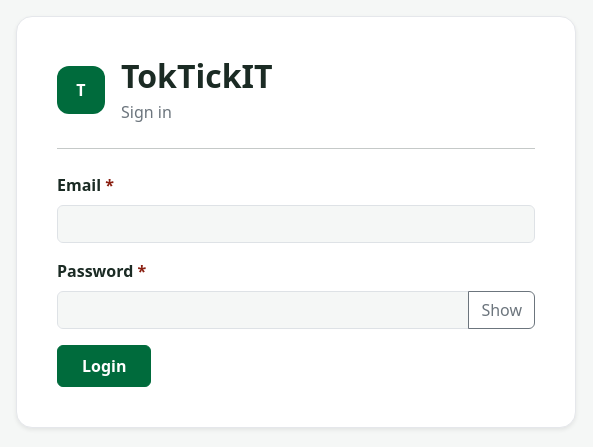
Test case: Login › shows the busy state and disables the form while submitting
Type "jane@toktickit.test" into the field labelled "Email *" at (296, 224), box [57,205,535,243]
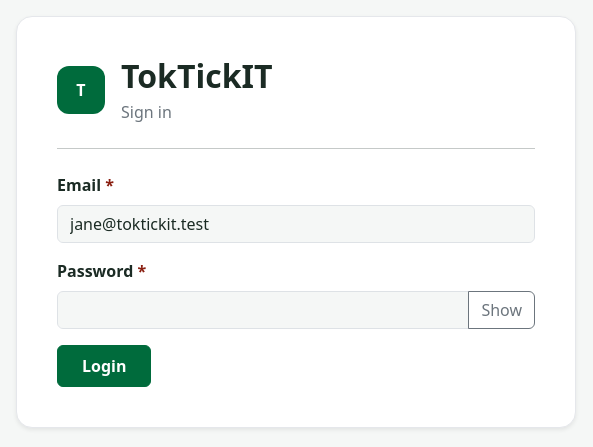
Type "DevPass123!" into the password field labelled "Password *" at (263, 310), box [57,291,469,329]
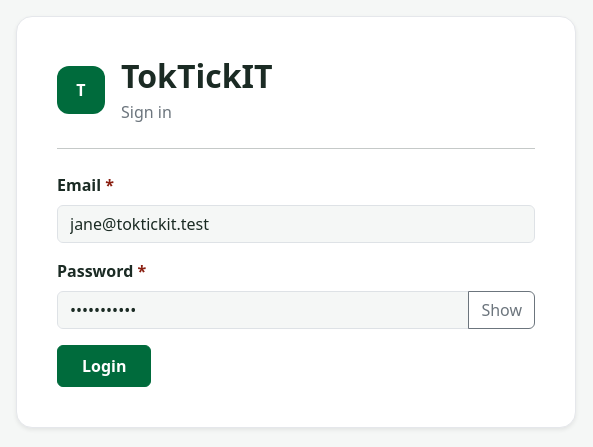
Click the button "Login" at (104, 366), box [57,345,152,387]
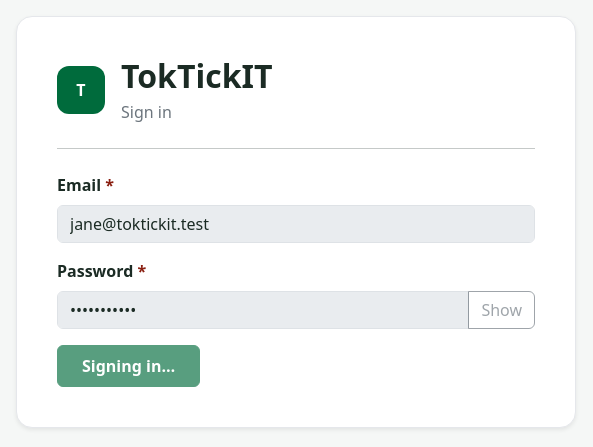
Expected: the field labelled "Email *" is disabled, [57,205,535,243]
Expected: the button "Signing in…" is disabled, [57,345,200,387]
